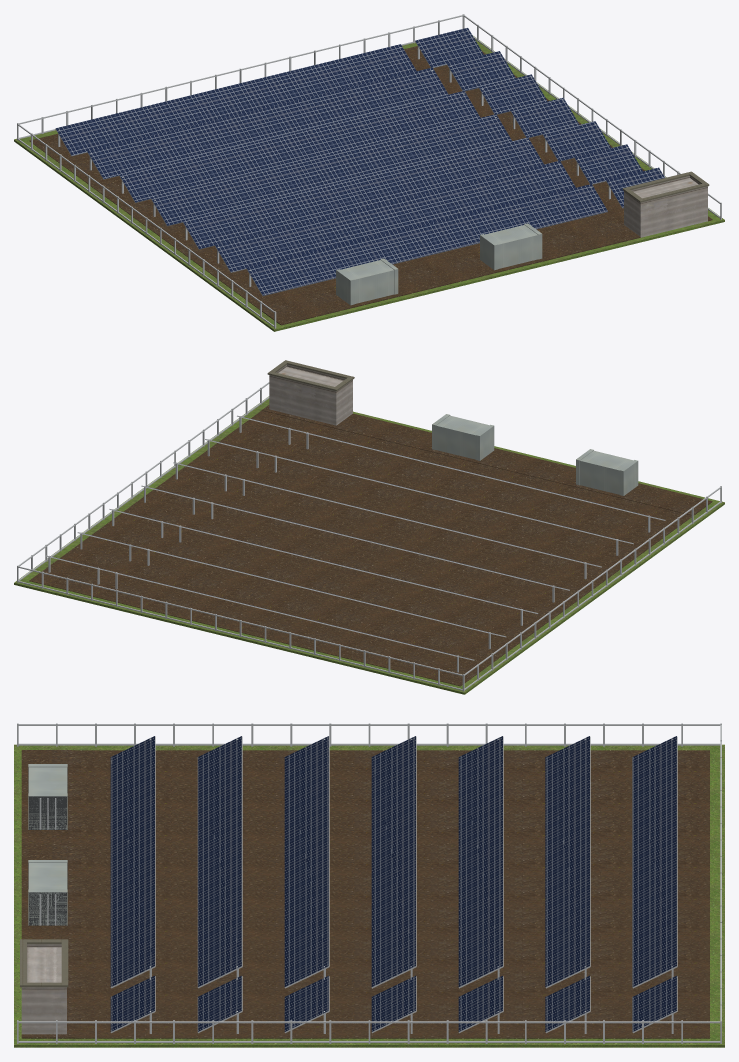
File: solar_farm.glb
3 views of the same model, one above another, from view 1: azimuth 30°, elevation 25°; view 2: azimuth 150°, elevation 25°; view 3: azimuth 270°, elevation 25° (orthographic). The views are drawn at different scales.
Visible parts, largest first — view 1: solar_farm_body; view 2: solar_farm_body; view 3: solar_farm_body.
Part boxes in pixels (x1,y1,x2,y2): solar_farm_body: (14,14,724,331); solar_farm_body: (14,360,724,694); solar_farm_body: (14,723,724,1047).
Size of the model in its own units: 0.94 by 0.078 by 0.94.
9 materials, 7 textured.
